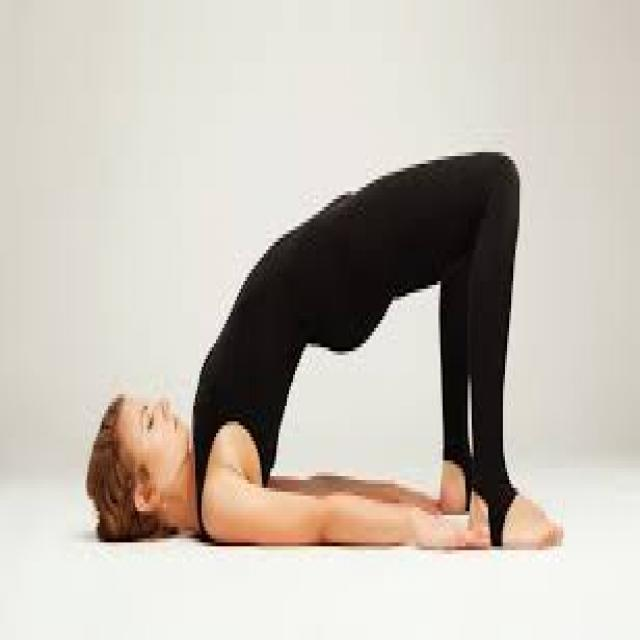yoga-pose bridge: (84, 147, 566, 555)
